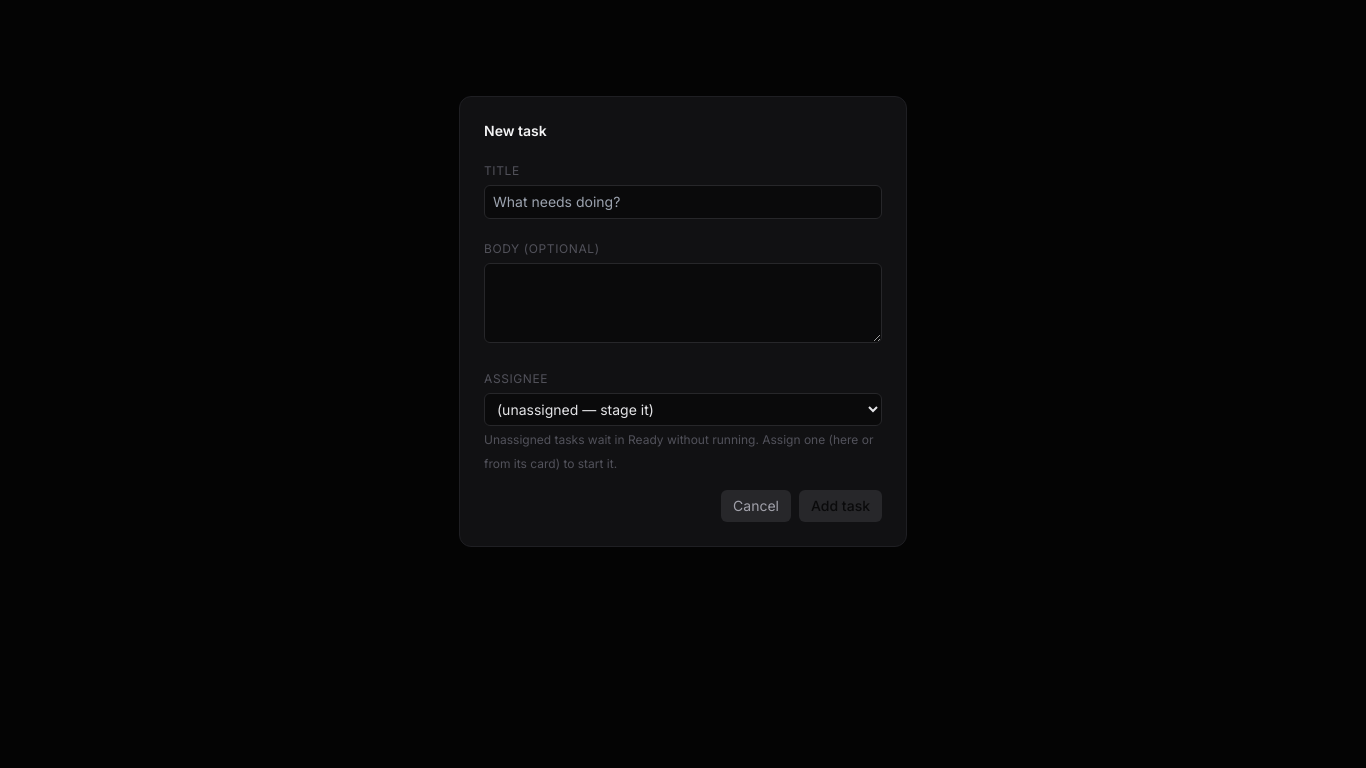
Test case: AddTaskModal › disables Add until a title is entered
The image size is (1366, 768).
Expected: the button "Add task" is disabled, [799,490,882,522]
Type "New task" into the field with placeholder "What needs doing?".
click(683, 202); type("New task")  # box [484,185,882,219]
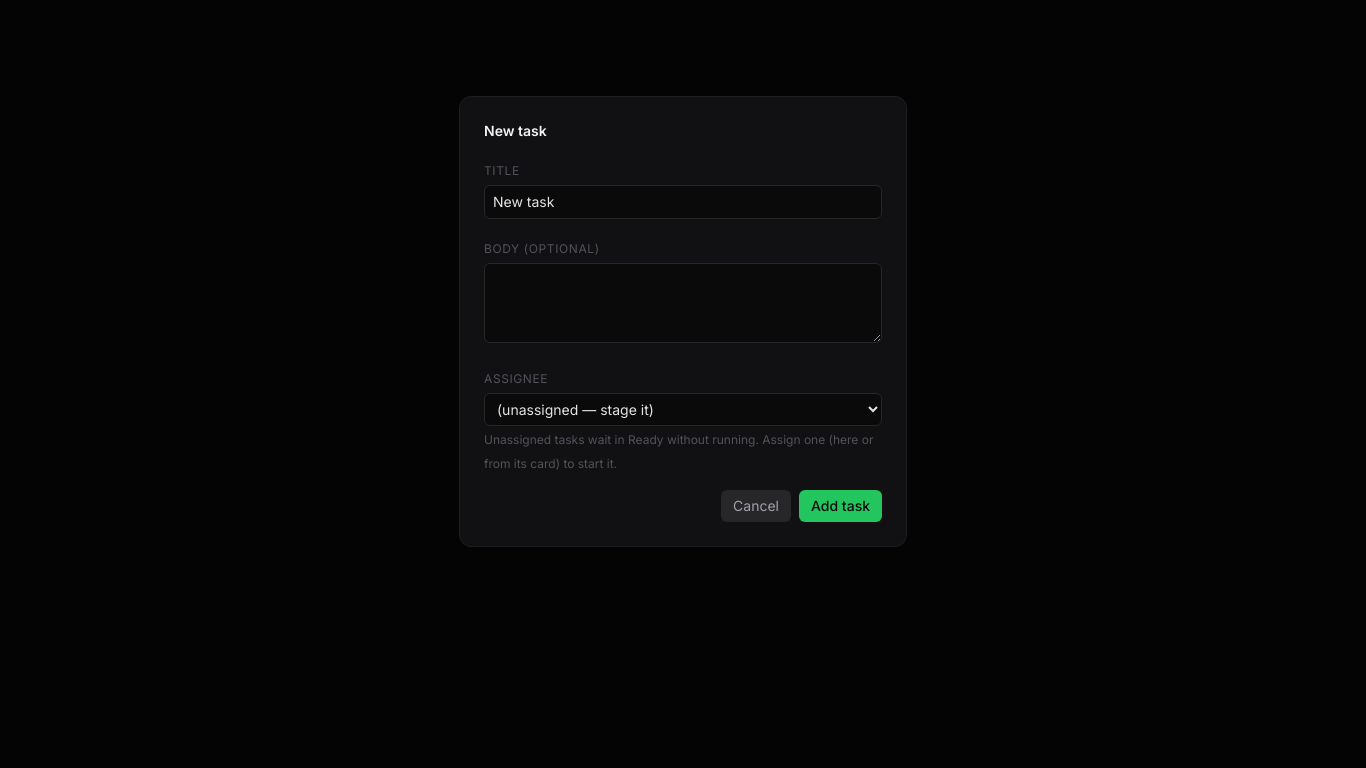
Expected: the button "Add task" is enabled, [799,490,882,522]
